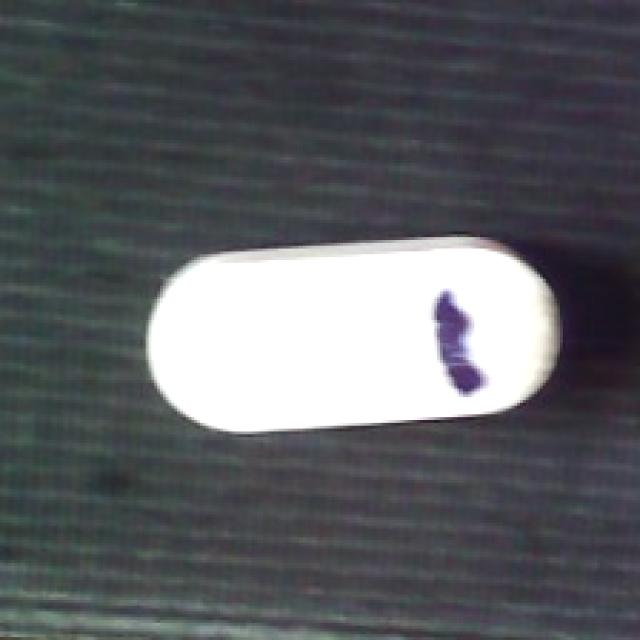defected: (137, 232, 574, 437)
